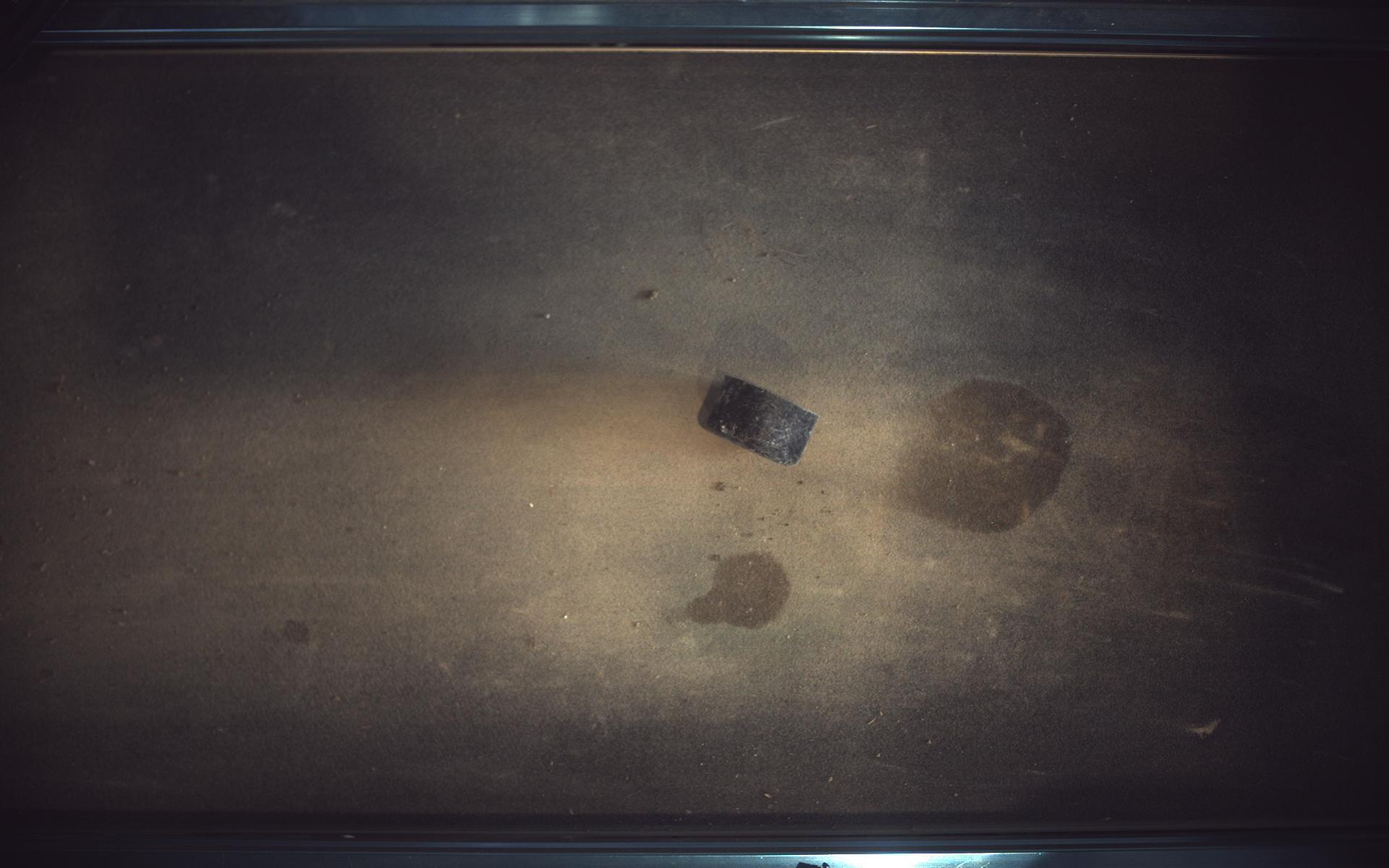general_w: (699, 374, 819, 466)
